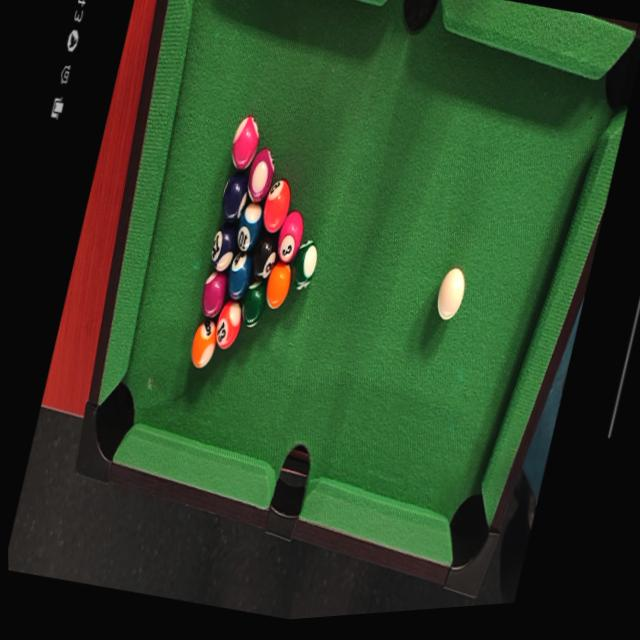cue ball: (430, 259, 472, 330)
other: (218, 102, 266, 183), (253, 160, 299, 240), (213, 156, 257, 228), (226, 186, 270, 257), (237, 139, 282, 208), (257, 246, 298, 316), (206, 290, 249, 355), (283, 232, 326, 293), (183, 313, 223, 377), (201, 218, 240, 279), (231, 278, 270, 338), (269, 206, 309, 264), (245, 223, 284, 281), (196, 265, 232, 318), (220, 255, 252, 302)
